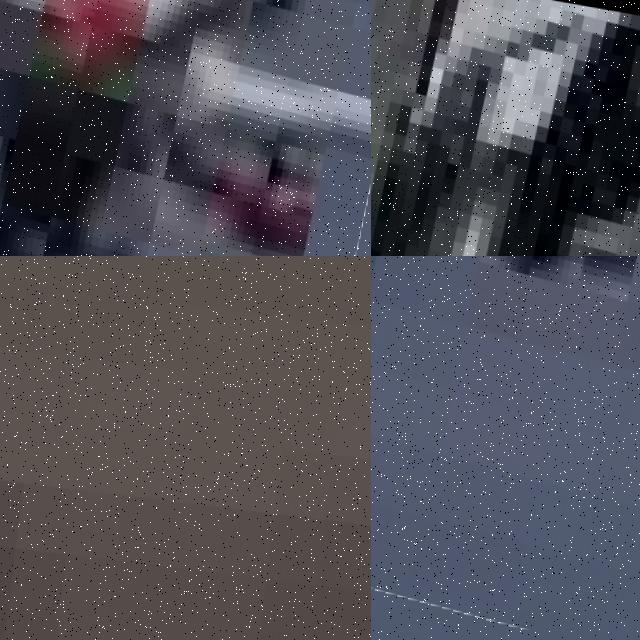0: (371, 256, 640, 640), (0, 0, 371, 256)
drone: (371, 0, 640, 256)
